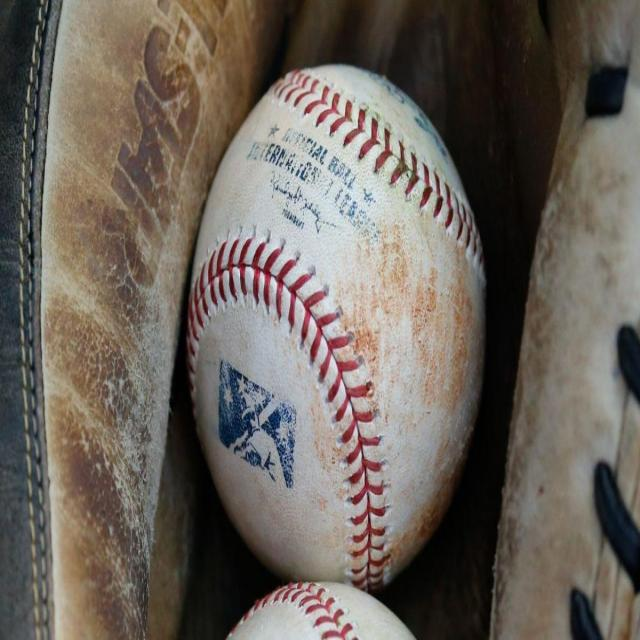baseball: (188, 61, 486, 584)
